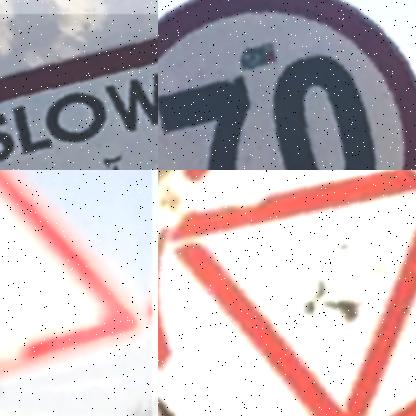Give Way: (158, 170, 416, 416)
Slow: (0, 33, 158, 170)
Speed Limit (70 kmph): (158, 0, 416, 170)
